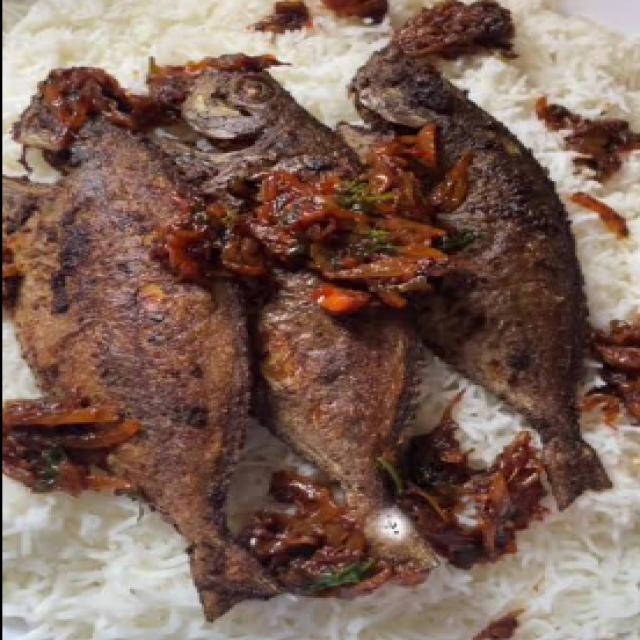Fried Fish: (13, 41, 614, 634)
